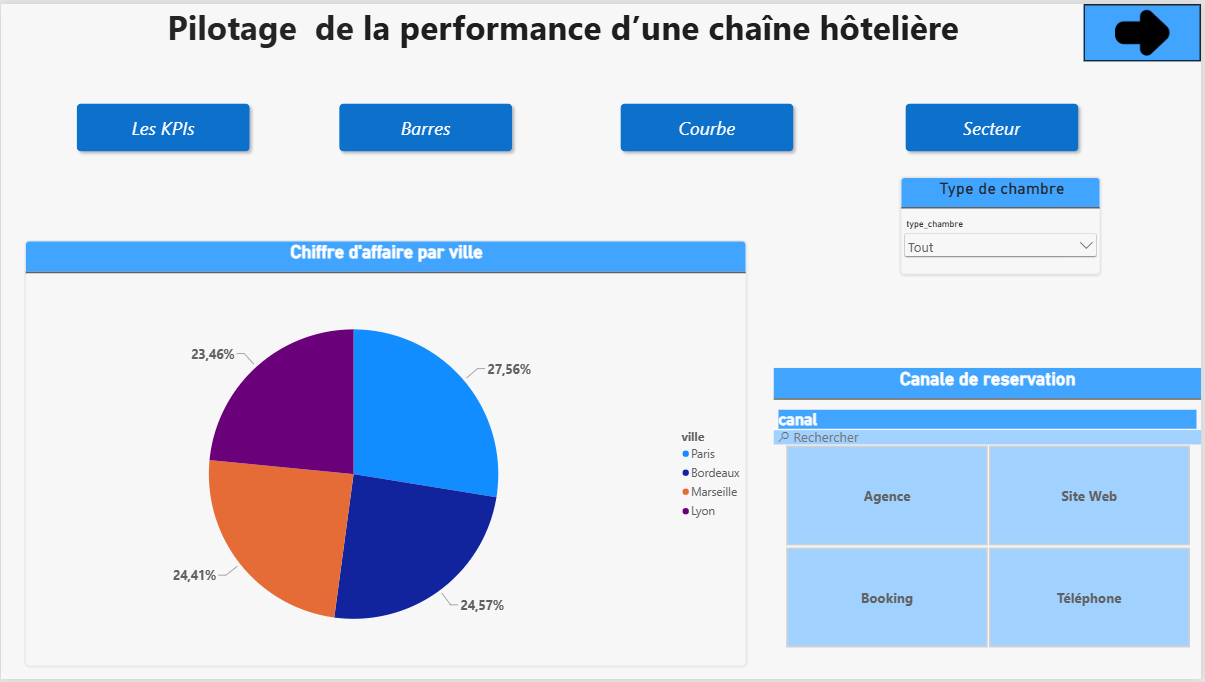

What the dashboard file says about the page in this screenshot:
{"tool":"powerbi","page":{"name":"Tableau de bord","canvas":[1920,1080],"ordinal":0},"visuals":[{"type":"slicer","title":"Canale de reservation","fields":{"Values":["public reservations.canal_reservationss"]},"box":[1235,582.5,685,450],"z":5000},{"type":"lineChart","title":"Chiffre d''affaire par mois","fields":{"Category":["public reservations.date_reservation.Variation.Hiérarchie de dates.Mois"],"Y":["Sum(public reservations.montant_total)"]},"box":[42.5,370,1170,652.5],"z":6000},{"type":"image","box":[1731.8,0,188.2,92.3],"z":7000},{"type":"slicer","title":"Type de chambre","fields":{"Values":["public chambres.type_chambre"]},"box":[1437.5,275,322.5,157.5],"z":8000},{"type":"actionButton","box":[112.5,150,295,95],"z":8003},{"type":"textbox","box":[227.5,0,1357.5,92.5],"z":8007},{"type":"actionButton","box":[532.5,150,295,95],"z":8008},{"type":"actionButton","box":[982.5,150,295,95],"z":8009},{"type":"actionButton","box":[1437.5,150,295,95],"z":8010}]}

Visuals, with their boxes in screenshot pixels (x1, y1, x2, y2), scaled from the page's 1920x1080 canvas onto the 1205x682 screenshot:
"Canale de reservation" slicer: <bbox>775, 368, 1204, 652</bbox>
"Chiffre d''affaire par mois" lineChart: <bbox>27, 234, 761, 646</bbox>
image: <bbox>1087, 0, 1204, 58</bbox>
"Type de chambre" slicer: <bbox>902, 174, 1105, 273</bbox>
actionButton: <bbox>71, 95, 256, 155</bbox>
textbox: <bbox>143, 0, 995, 58</bbox>
actionButton: <bbox>334, 95, 519, 155</bbox>
actionButton: <bbox>617, 95, 802, 155</bbox>
actionButton: <bbox>902, 95, 1087, 155</bbox>
